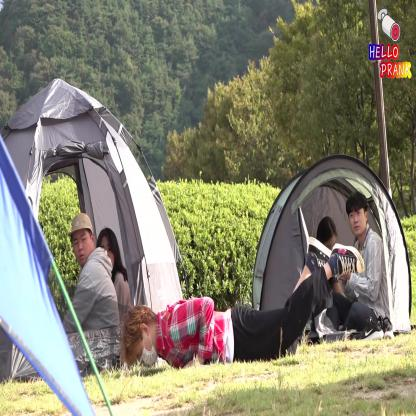Fall_Down: (125, 233, 367, 372)
